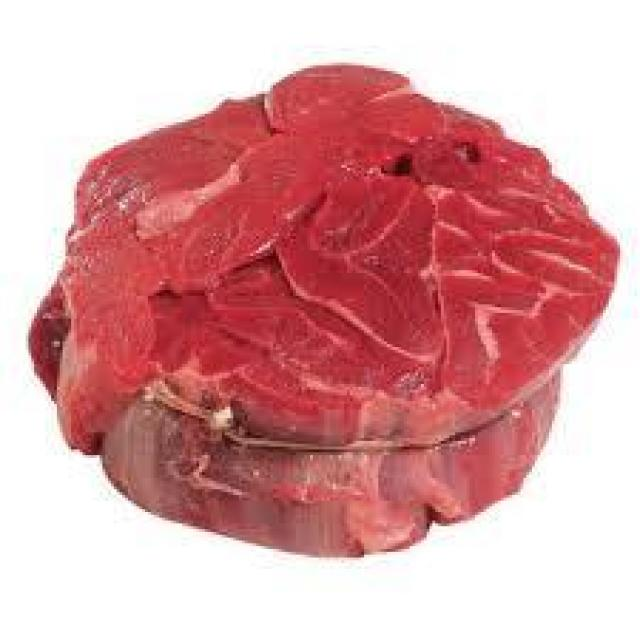Beef: (24, 73, 617, 555)
